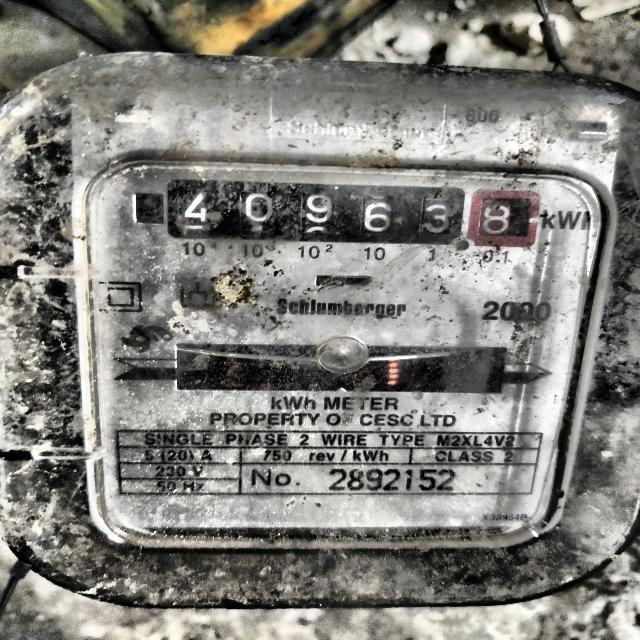Analog: (4, 43, 639, 640)
Reading: (171, 190, 536, 243)
Serial No.: (321, 465, 469, 496)
